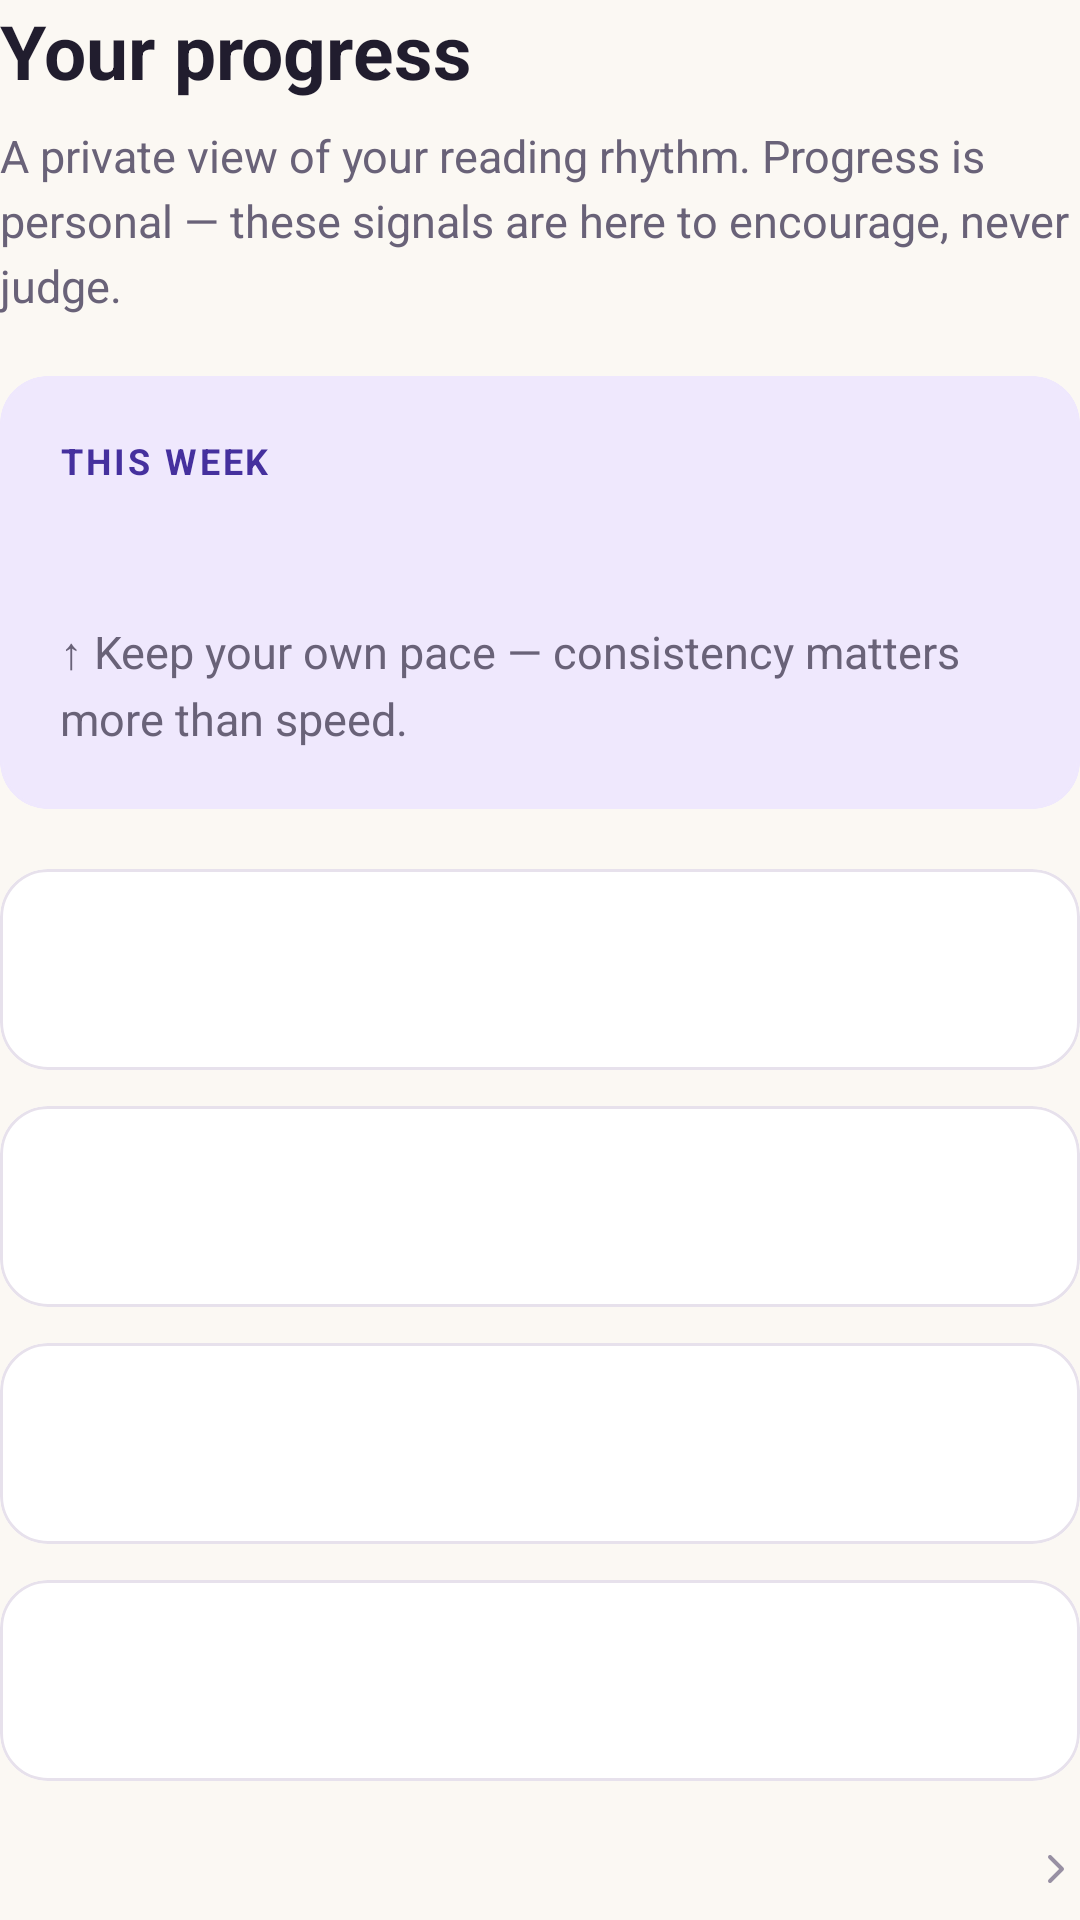

Named icons in this screenshot (1080px×1920px) and their centers, (x,y):
chevron right: (1056,1869)
